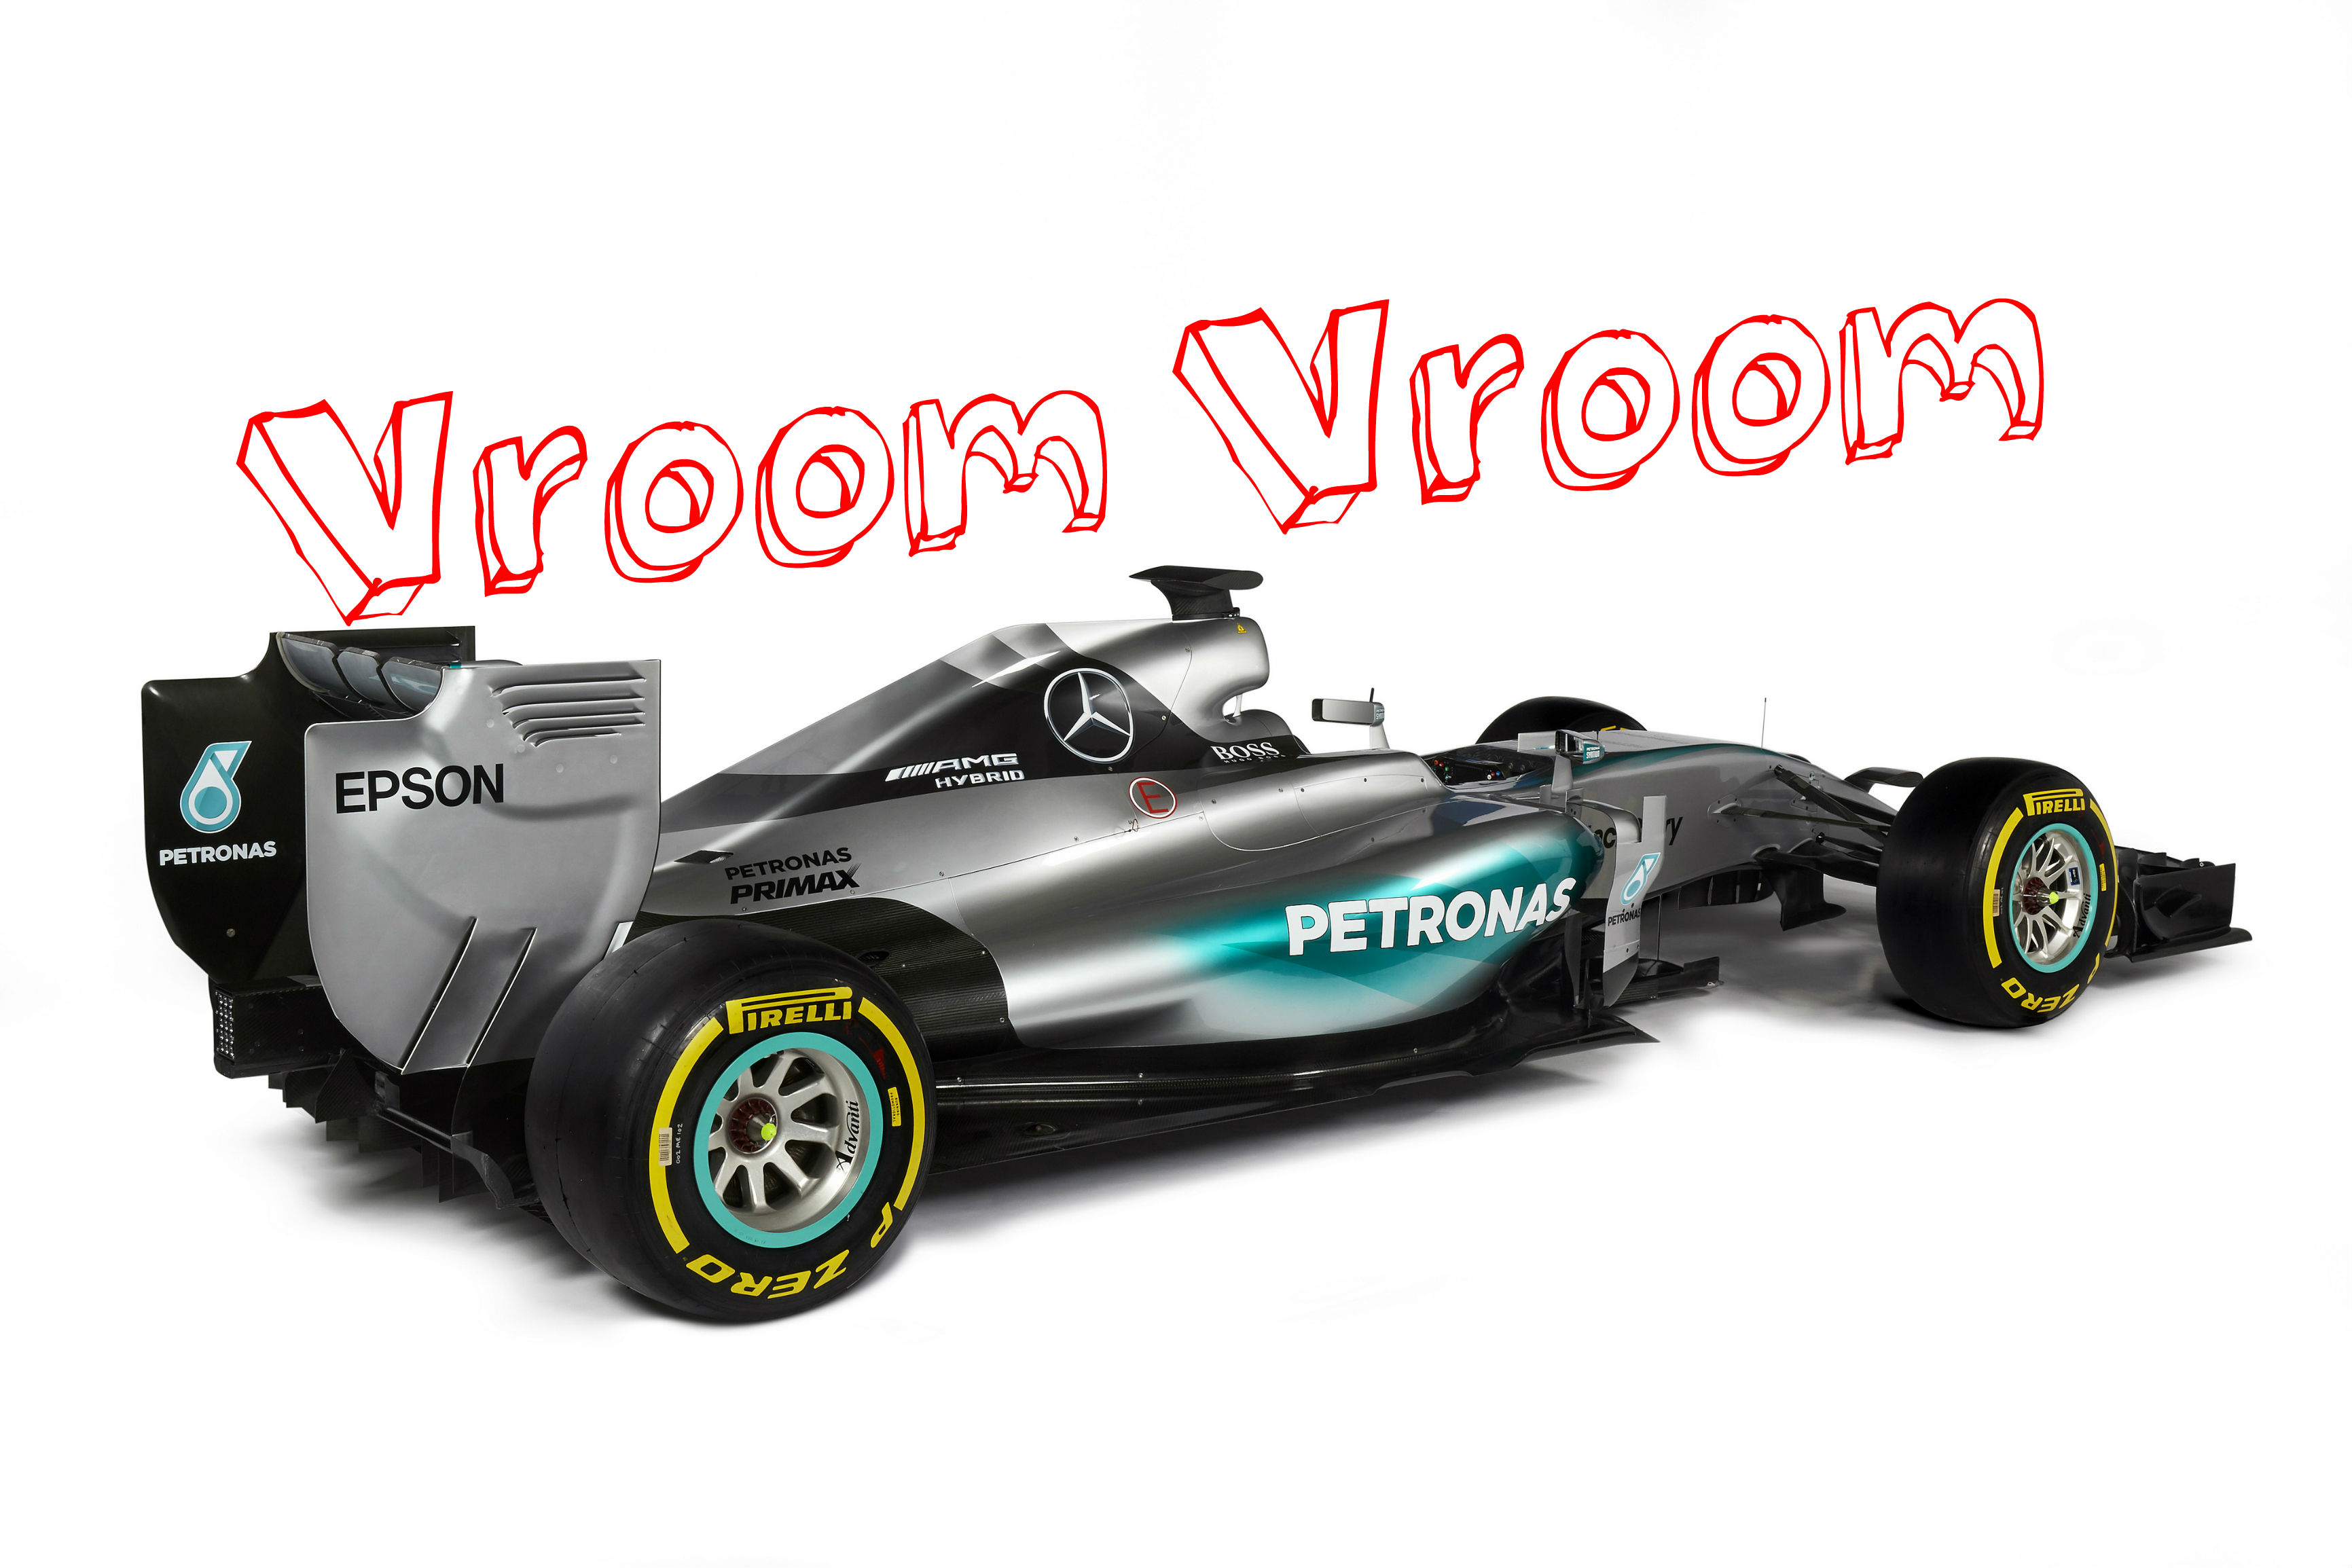f1_car: (103, 514, 2292, 1358)
